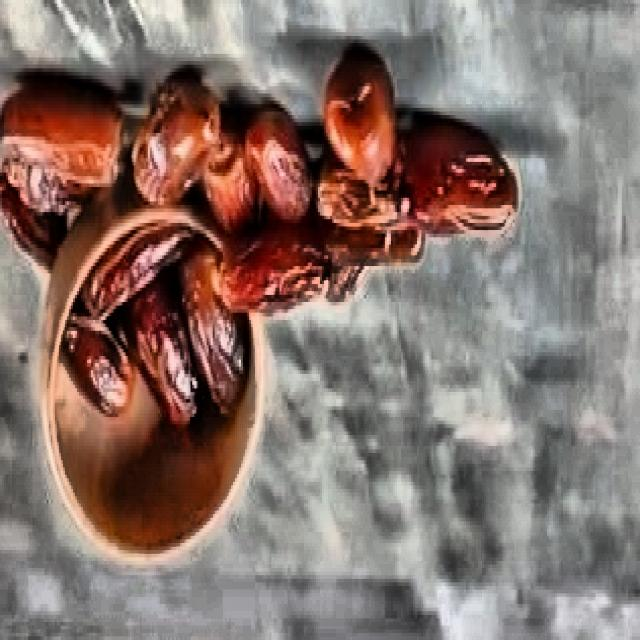Fruit: (0, 14, 549, 572)
